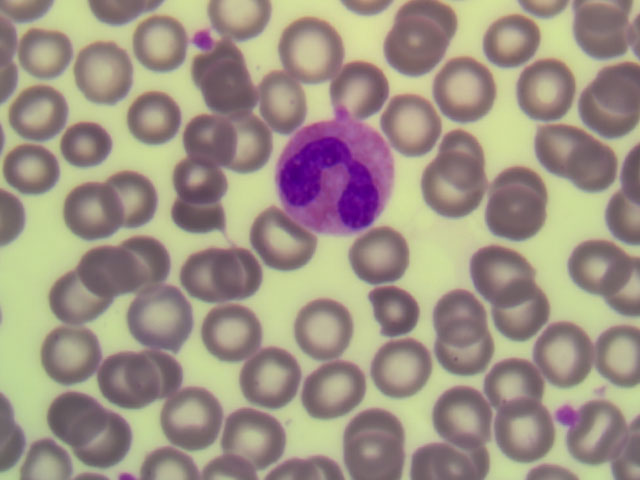Platelets: (552, 400, 577, 429), (189, 25, 214, 52)
RBC: (64, 37, 144, 105), (117, 86, 197, 154), (58, 116, 116, 171), (4, 137, 62, 192), (10, 96, 68, 151), (102, 165, 160, 220), (64, 187, 122, 242), (122, 239, 180, 294), (80, 243, 138, 298), (52, 266, 110, 321), (44, 326, 102, 381), (102, 350, 160, 405), (41, 389, 99, 444), (91, 418, 149, 473), (163, 389, 221, 444), (247, 346, 305, 401), (223, 409, 281, 464), (198, 301, 256, 356), (180, 257, 238, 312), (211, 240, 269, 295), (247, 216, 305, 271), (167, 189, 225, 244), (164, 155, 222, 210), (182, 119, 240, 174), (210, 112, 268, 167), (255, 76, 313, 131), (196, 65, 254, 120), (284, 23, 342, 78), (331, 60, 389, 115), (387, 21, 445, 76), (382, 93, 440, 148), (437, 57, 495, 112), (435, 134, 493, 189), (421, 165, 479, 220), (482, 181, 540, 236), (533, 116, 591, 171), (569, 147, 627, 202), (501, 56, 559, 111), (484, 17, 542, 72), (581, 12, 639, 67), (582, 68, 640, 123), (570, 237, 628, 292), (542, 329, 600, 384), (582, 328, 640, 383), (486, 352, 544, 407), (485, 404, 543, 459), (423, 383, 481, 438), (407, 425, 465, 480), (346, 425, 404, 480), (304, 360, 362, 415), (295, 303, 353, 358), (378, 285, 436, 340), (361, 225, 419, 280), (376, 347, 434, 402), (432, 293, 490, 348), (472, 246, 530, 301), (499, 280, 557, 335), (577, 411, 635, 466), (20, 23, 74, 78)
WBC: (278, 121, 399, 234)
